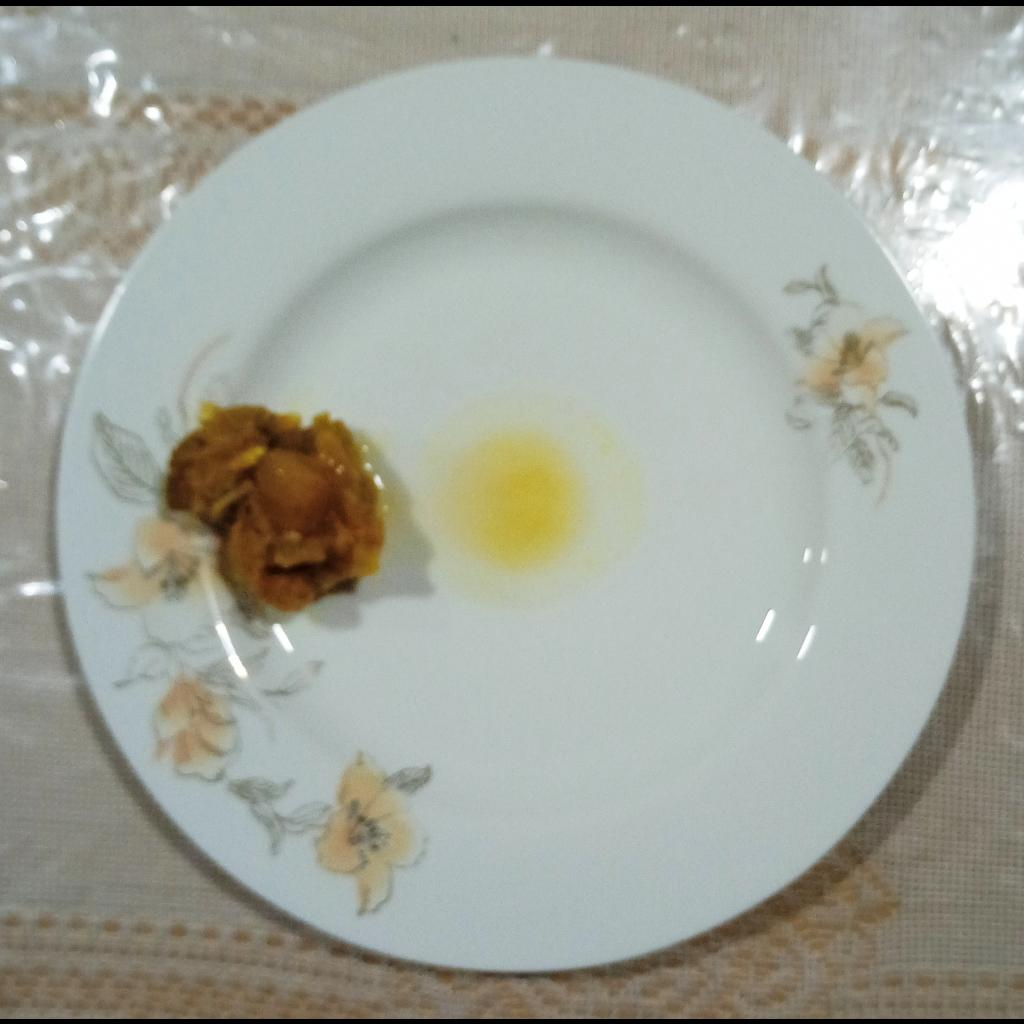kumra-vaji: (168, 398, 389, 613)
